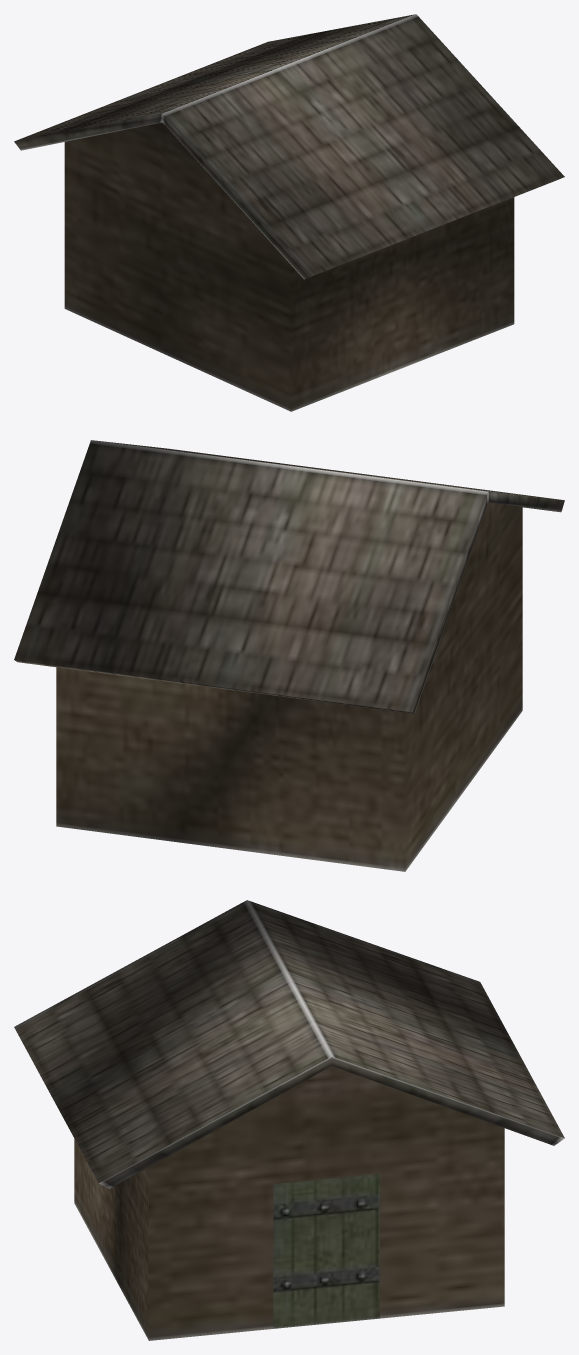
File: pastvina_domek2.fbx
3 renders of one model, top to bottom at view 1: azimuth 30°, elevation 25°; view 2: azimuth 150°, elevation 25°; view 3: azimuth 270°, elevation 25°, orthographic. The views are drawn at different scales.
Visible parts, largest first — view 1: Do_Steny2, Do_Strecha2; view 2: Do_Strecha2, Do_Steny2; view 3: Do_Strecha2, Do_Steny2, Do_Dvere2.
Part boxes in pixels (box(x1,y1,x2,y2)): Do_Steny2: box(64, 122, 514, 411); Do_Strecha2: box(14, 14, 564, 279); Do_Strecha2: box(14, 440, 564, 713); Do_Steny2: box(56, 502, 522, 871); Do_Strecha2: box(14, 900, 564, 1188); Do_Steny2: box(74, 1066, 504, 1340); Do_Dvere2: box(273, 1173, 379, 1328).
Bounding box in the file's own units: 2.43 × 1.56 × 2.81.
Materials: 1 (1 with a texture image).
